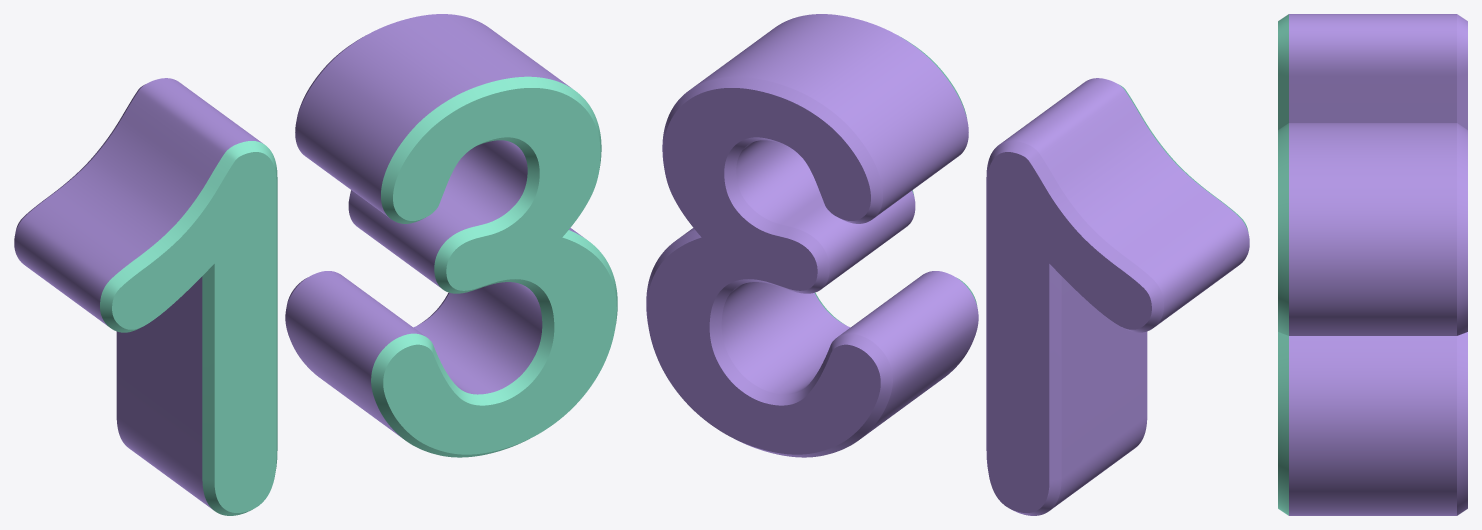
The picture shows the model from 3 angles, left to right: view 1: azimuth 30°, elevation 25°; view 2: azimuth 150°, elevation 25°; view 3: azimuth 270°, elevation 25°; orthographic projection. The views are drawn at different scales.
Parts seen in each view (by area): view 1: Text.013; view 2: Text.013; view 3: Text.013.
Boxes of the visible parts, bbox=[...] form: Text.013: bbox=[14, 14, 617, 515]; Text.013: bbox=[646, 14, 1249, 515]; Text.013: bbox=[1278, 14, 1467, 515].
Size of the model in its own units: 239 by 164 by 77.6.
